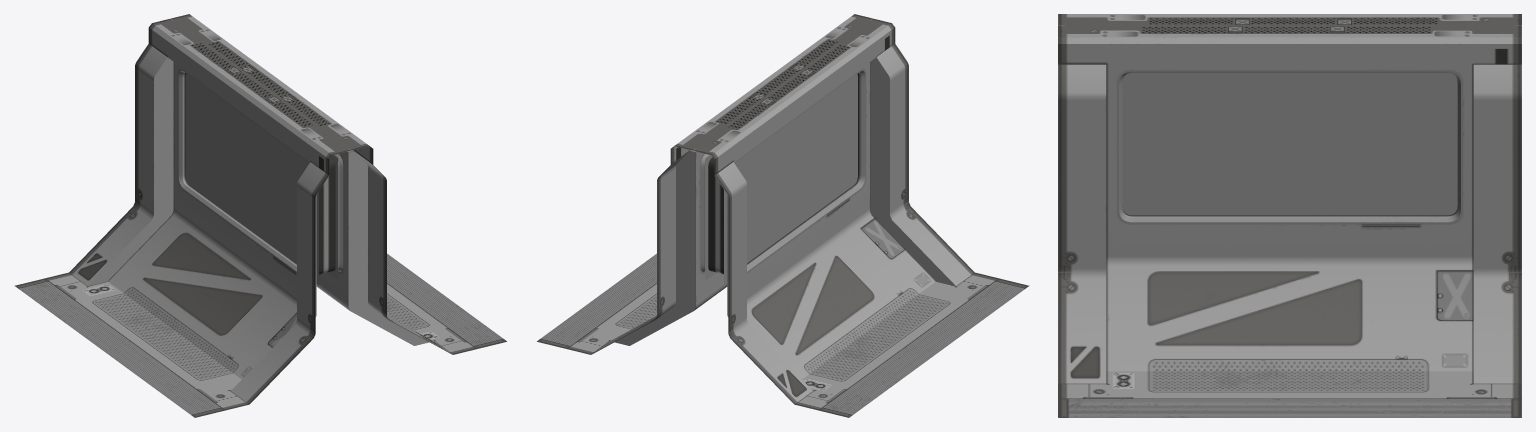
File: A_Wall_Window_2x4.FBX
3 views of the same model, side by side, from view 1: azimuth 30°, elevation 25°; view 2: azimuth 150°, elevation 25°; view 3: azimuth 270°, elevation 25° (orthographic). The views are drawn at different scales.
Visible parts, largest first — view 1: A_Wall_Window_2x4, A_Wall_Window_2x4_Glass; view 2: A_Wall_Window_2x4, A_Wall_Window_2x4_Glass; view 3: A_Wall_Window_2x4, A_Wall_Window_2x4_Glass.
Boxes of the visible parts, left/top/right/bottom form: A_Wall_Window_2x4: left=14, top=14, right=506, bottom=417; A_Wall_Window_2x4_Glass: left=186, top=73, right=338, bottom=284; A_Wall_Window_2x4: left=537, top=14, right=1029, bottom=417; A_Wall_Window_2x4_Glass: left=705, top=73, right=857, bottom=285; A_Wall_Window_2x4: left=1058, top=14, right=1521, bottom=417; A_Wall_Window_2x4_Glass: left=1122, top=73, right=1457, bottom=215.
Bounding box in the file's own units: 400 × 280 × 400.
